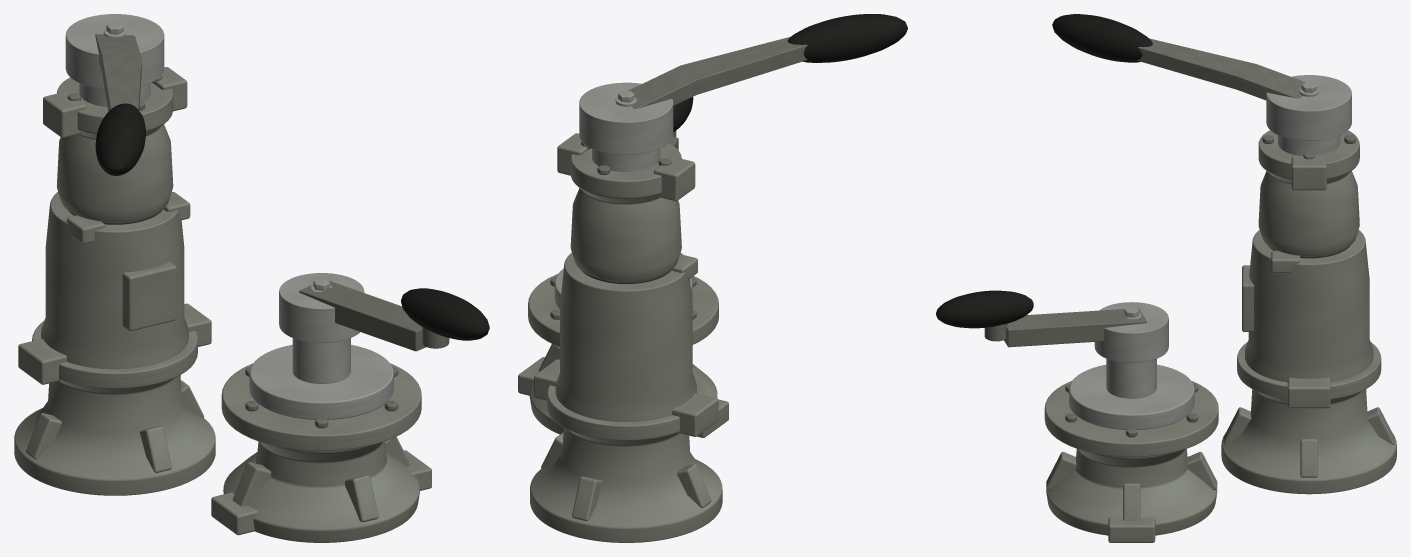
Rendered from brake_valves_final_with_handles.glb.
The picture shows the model from 3 angles, left to right: view 1: azimuth 30°, elevation 25°; view 2: azimuth 150°, elevation 25°; view 3: azimuth 270°, elevation 25°; orthographic projection. The views are drawn at different scales.
Parts seen in each view (by area): view 1: Tall_Lower_Casting, Short_Lower_Casting, Tall_Upper_Casting, Short_Flange, Short_Cover, Tall_Removable_Hub, Short_Compact_Arm, Short_Removable_Hub, Tall_Front_Cast_Boss, Short_Distinct_Grip, Tall_Lower_Flange, Tall_Distinct_Grip (+14 smaller); view 2: Tall_Lower_Casting, Tall_Upper_Casting, Tall_Removable_Hub, Tall_Dogleg_Arm, Tall_Distinct_Grip, Short_Flange, Tall_Lower_Flange, Tall_Lower_Flange_Ear_1, Tall_Cap_Ear_1, Tall_Exposed_Spindle, Short_Lower_Casting, Tall_Foot_Rib_1 (+4 smaller); view 3: Tall_Lower_Casting, Short_Lower_Casting, Tall_Upper_Casting, Short_Flange, Short_Cover, Tall_Dogleg_Arm, Tall_Removable_Hub, Short_Compact_Arm, Tall_Distinct_Grip, Short_Removable_Hub, Short_Distinct_Grip, Tall_Lower_Flange (+12 smaller).
Part boxes in pixels (x1,y1,x2,y2): Tall_Lower_Casting: [14, 192, 215, 495]; Short_Lower_Casting: [223, 441, 419, 542]; Tall_Upper_Casting: [56, 77, 173, 222]; Short_Flange: [221, 363, 421, 450]; Short_Cover: [249, 344, 393, 419]; Tall_Removable_Hub: [65, 14, 164, 88]; Short_Compact_Arm: [299, 280, 426, 351]; Short_Removable_Hub: [279, 273, 364, 342]; Tall_Front_Cast_Boss: [122, 261, 176, 331]; Short_Distinct_Grip: [401, 288, 489, 340]; Tall_Lower_Flange: [32, 321, 197, 388]; Tall_Distinct_Grip: [95, 103, 145, 175]; Tall_Lower_Casting: [530, 252, 722, 542]; Tall_Upper_Casting: [570, 143, 681, 281]; Tall_Removable_Hub: [579, 82, 673, 154]; Tall_Dogleg_Arm: [628, 36, 807, 109]; Tall_Distinct_Grip: [787, 14, 907, 62]; Short_Flange: [528, 274, 718, 346]; Tall_Lower_Flange: [547, 376, 705, 440]; Tall_Lower_Flange_Ear_1: [672, 393, 718, 436]; Tall_Cap_Ear_1: [653, 157, 695, 201]; Tall_Exposed_Spindle: [592, 148, 660, 171]; Short_Lower_Casting: [529, 364, 717, 434]; Tall_Foot_Rib_1: [572, 476, 602, 521]; Tall_Lower_Casting: [1221, 230, 1396, 494]; Short_Lower_Casting: [1046, 448, 1217, 535]; Tall_Upper_Casting: [1258, 130, 1359, 255]; Short_Flange: [1044, 381, 1218, 456]; Short_Cover: [1069, 364, 1194, 429]; Tall_Dogleg_Arm: [1137, 38, 1317, 100]; Tall_Removable_Hub: [1266, 75, 1351, 140]; Short_Compact_Arm: [1004, 308, 1146, 347]; Tall_Distinct_Grip: [1052, 14, 1152, 62]; Short_Removable_Hub: [1094, 302, 1168, 362]; Short_Distinct_Grip: [936, 290, 1033, 328]; Tall_Lower_Flange: [1237, 342, 1381, 399].
Size of the model in its own units: 0.1825 by 0.2205 by 0.2364.
5 materials, 4 textured.
